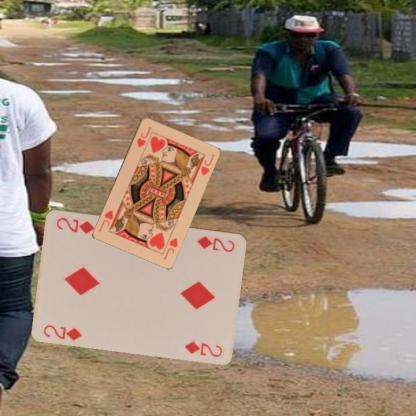2d: (194, 233, 236, 253), (41, 322, 83, 342)
Jh: (160, 232, 180, 260), (134, 124, 153, 148)
